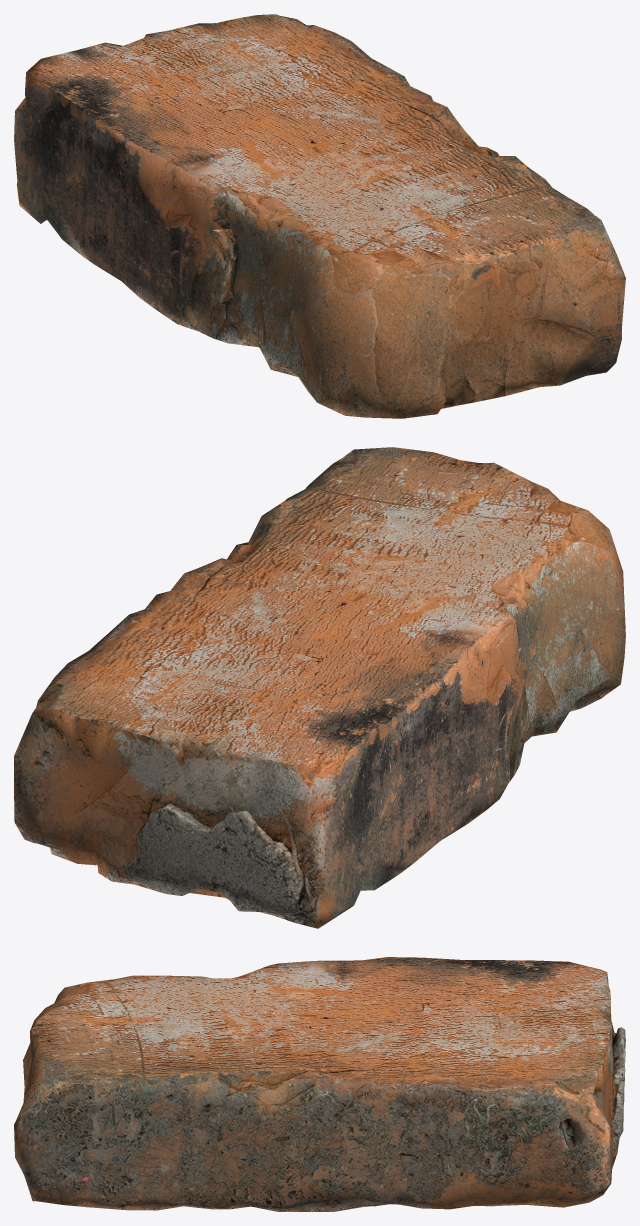
Rendered from sm_Brick_01_01.fbx.
3 views of the same model, one above another, from view 1: azimuth 30°, elevation 25°; view 2: azimuth 150°, elevation 25°; view 3: azimuth 270°, elevation 25° (orthographic). The views are drawn at different scales.
Visible parts, largest first — view 1: sm_Brick_01_01_LOD0; view 2: sm_Brick_01_01_LOD0; view 3: sm_Brick_01_01_LOD0.
Boxes of the visible parts, bbox=[...] form: sm_Brick_01_01_LOD0: bbox=[14, 14, 625, 418]; sm_Brick_01_01_LOD0: bbox=[14, 447, 625, 928]; sm_Brick_01_01_LOD0: bbox=[14, 957, 625, 1211].
Size of the model in its own units: 13.19 by 26.84 by 6.8.
